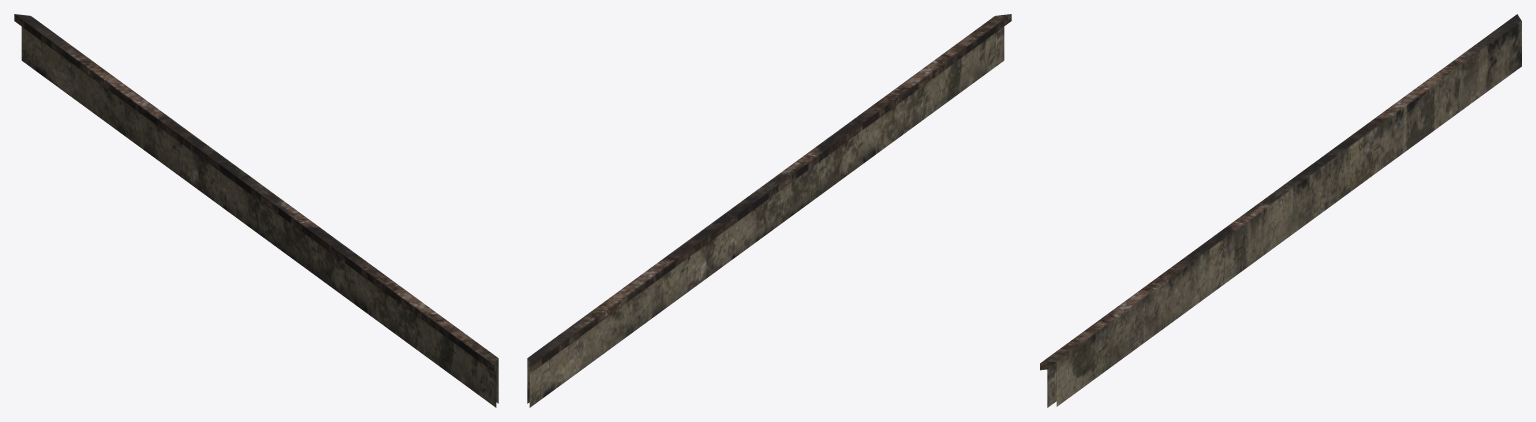
Rendered from Roof_Sidewall_02.FBX.
The picture shows the model from 3 angles, left to right: view 1: azimuth 30°, elevation 25°; view 2: azimuth 150°, elevation 25°; view 3: azimuth 330°, elevation 25°; orthographic projection.
Visible parts, largest first — view 1: Roof_Sidewall_02; view 2: Roof_Sidewall_02; view 3: Roof_Sidewall_02.
Part boxes in pixels (x1,y1,x2,y2): Roof_Sidewall_02: (14,14,498,407); Roof_Sidewall_02: (527,14,1011,407); Roof_Sidewall_02: (1040,14,1521,407).
Bounding box in the file's own units: 22.67 × 92.93 × 1768.
